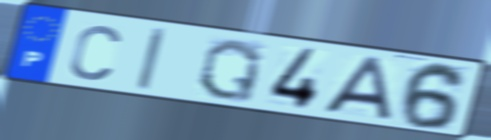4: (265, 46, 321, 111)
6: (396, 60, 470, 131)
A: (320, 54, 394, 121)
C: (67, 22, 124, 83)
I: (133, 26, 169, 93)
Q: (195, 37, 266, 105)
